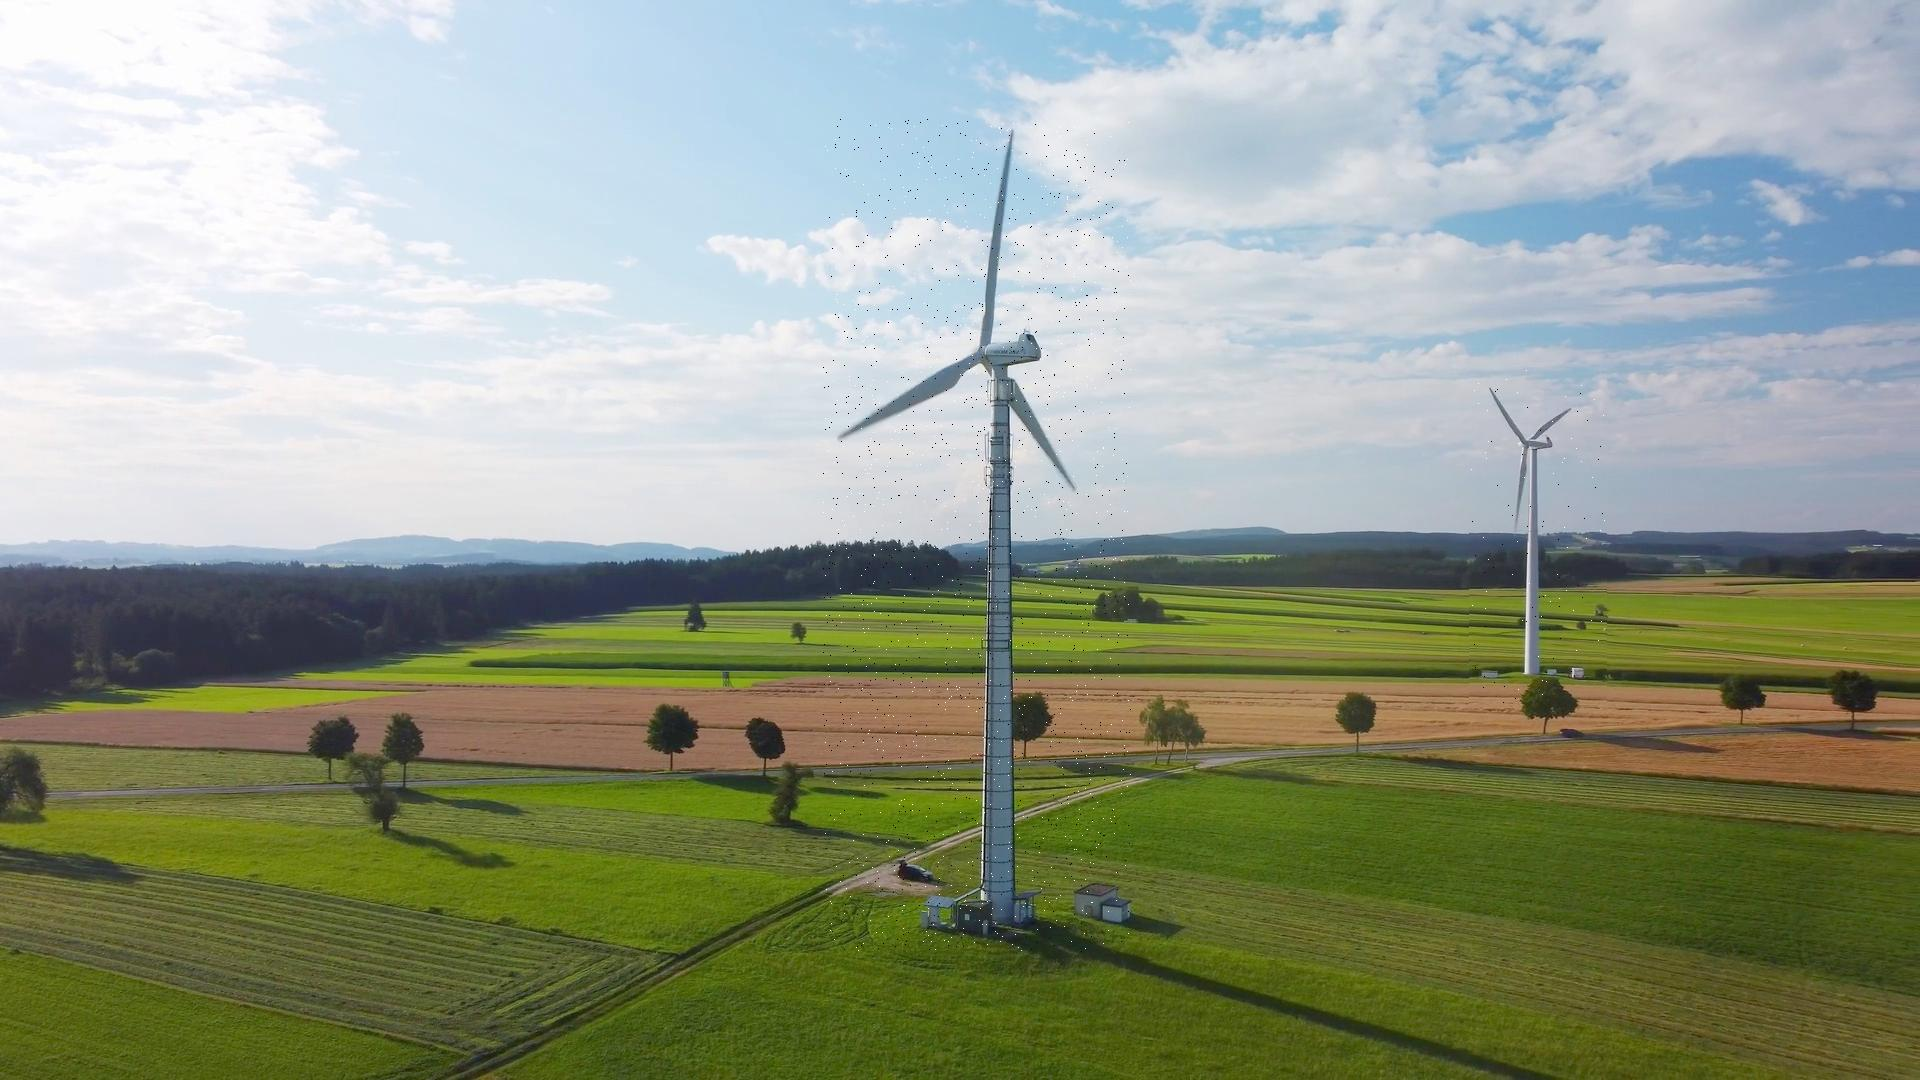turbine: (823, 119, 1131, 952), (1468, 368, 1606, 707)
